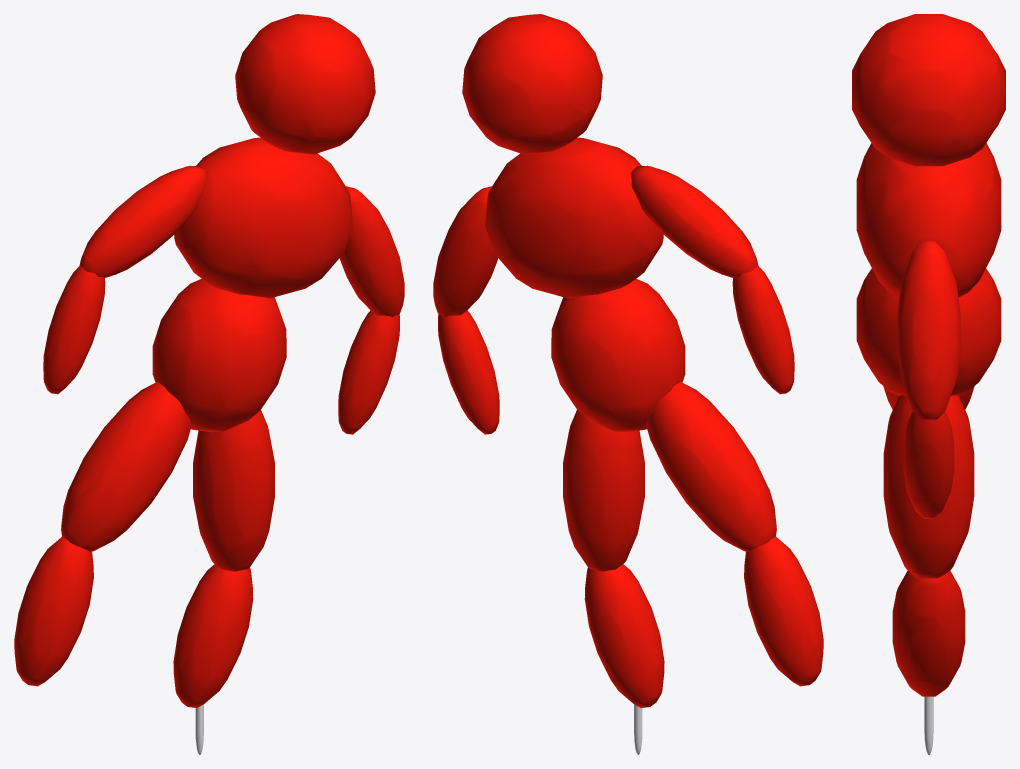
The model's file is balloon1.glb.
3 renders of one model, left to right at view 1: azimuth 30°, elevation 25°; view 2: azimuth 150°, elevation 25°; view 3: azimuth 270°, elevation 25°, orthographic. The views are drawn at different scales.
Parts seen in each view (by area): view 1: Mball.002; view 2: Mball.002; view 3: Mball.002.
Part boxes in pixels (bbox=[...]): Mball.002: bbox=[14, 14, 404, 754]; Mball.002: bbox=[433, 14, 823, 754]; Mball.002: bbox=[852, 14, 1005, 754].
Size of the model in its own units: 6.1 by 10.77 by 1.9.
